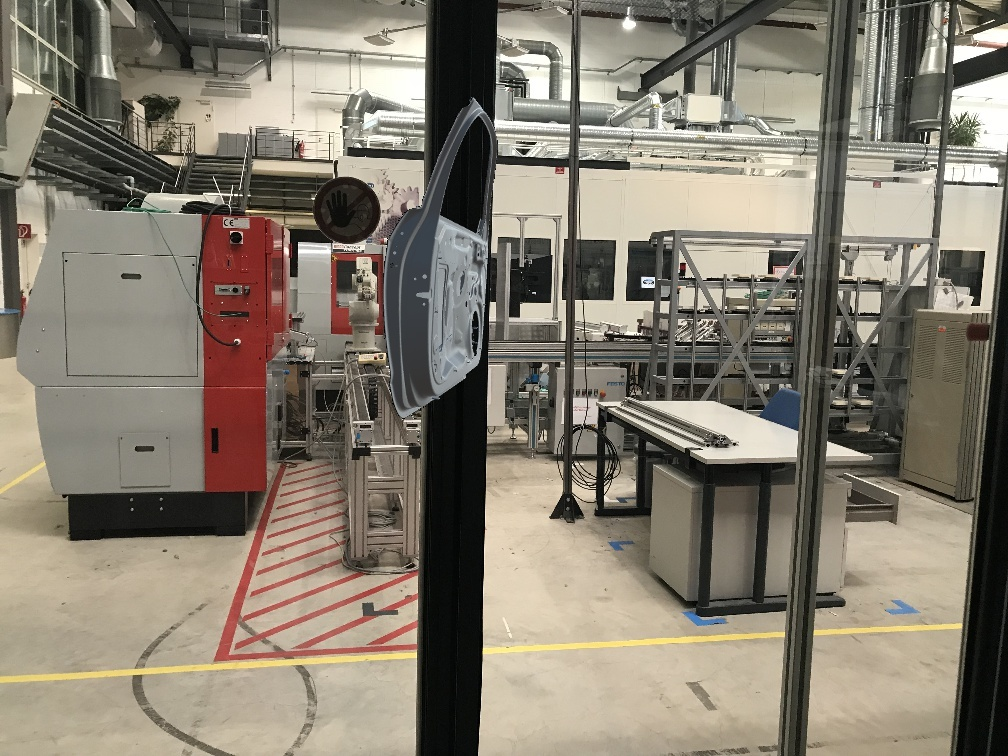car_door: (383, 97, 497, 418)
